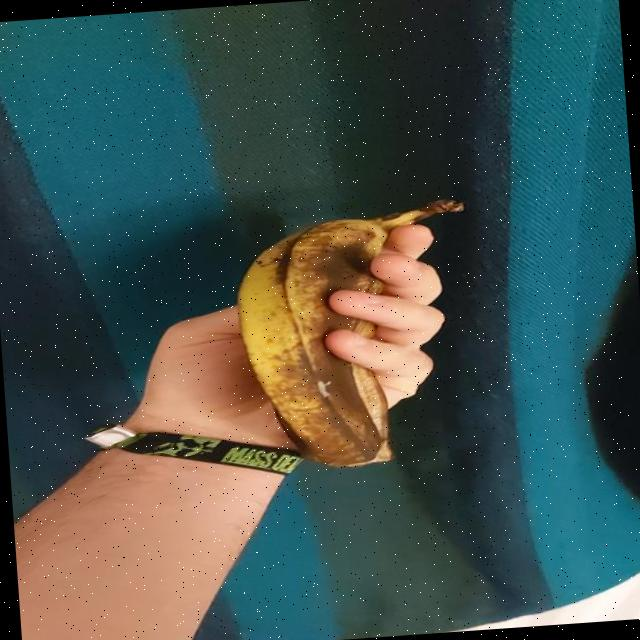banana-peel: (229, 195, 482, 474)
